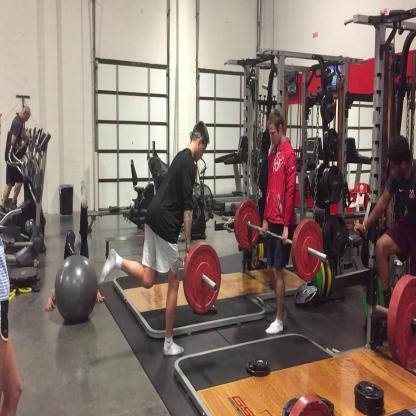barbell: (234, 202, 327, 283), (183, 245, 223, 315)
